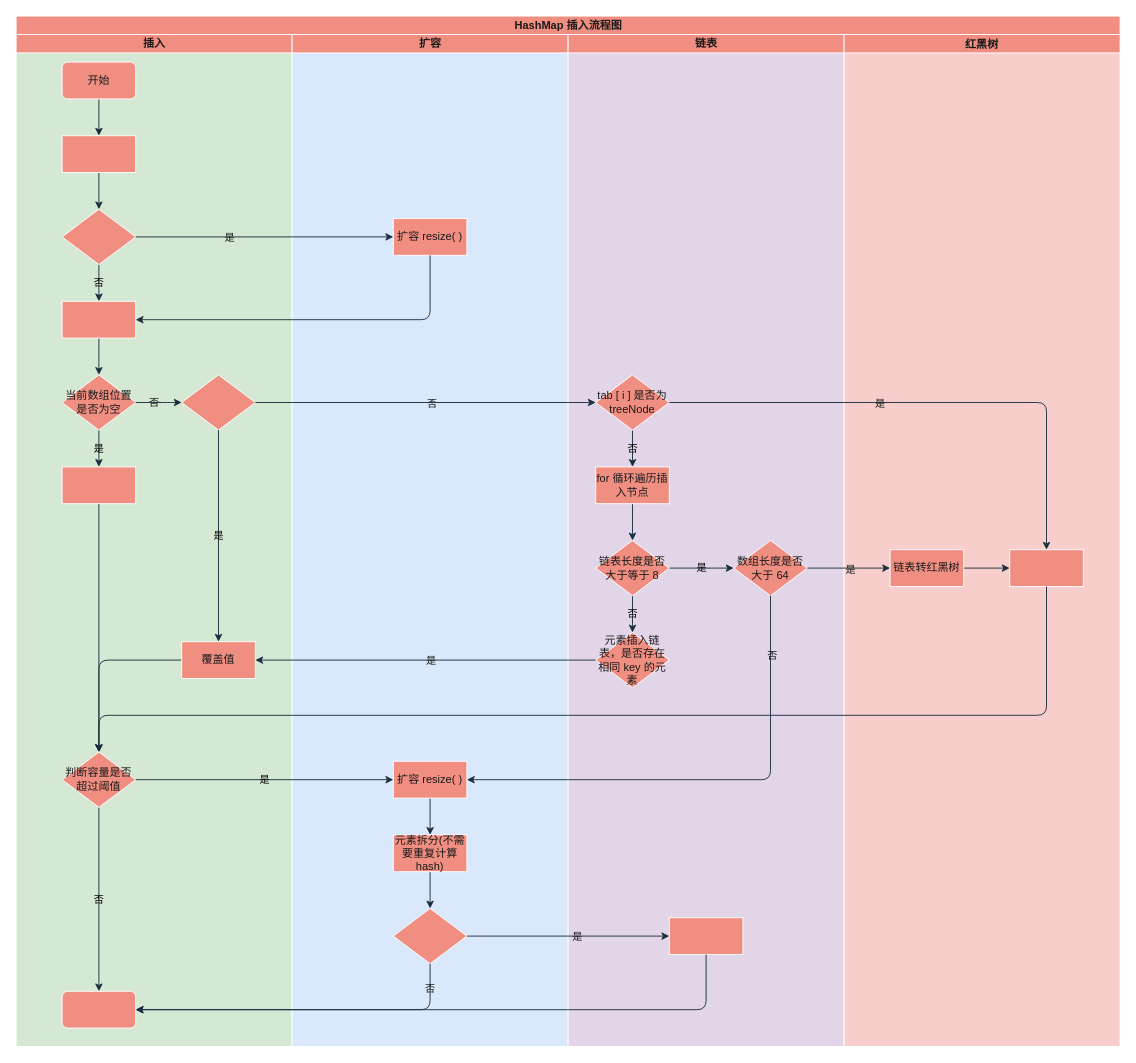
The diagram is 1136 pixels wide and 1063 high, and some of its shapes have lost their labels. Each missing label, with the centre of its shape:
key 是否存在: point (218, 402)
table 是否位空或者长度为 0: point (98, 236)
树节点元素是否小 6 个: point (429, 936)
根据 key 值计算哈希: point (98, 153)
直接插入: point (98, 485)
红黑树插入: point (1046, 567)
红黑树转链表: point (705, 935)
结束: point (98, 1009)
计算数组下标 (n-1) & hash: point (98, 319)
